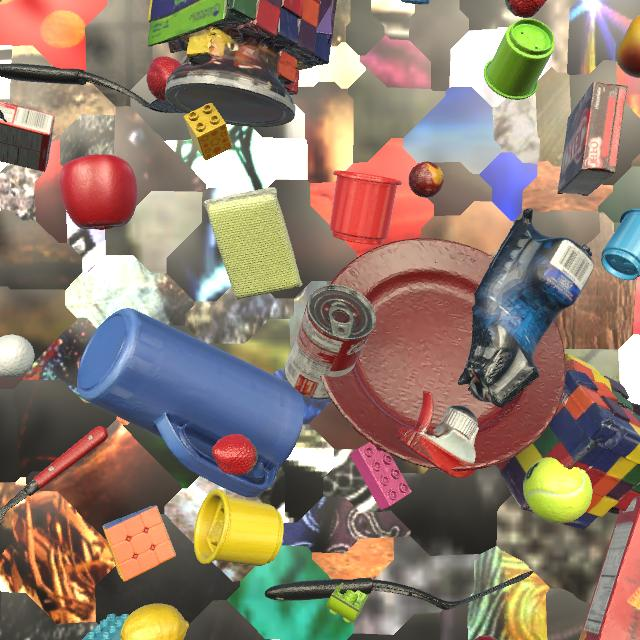ycb_003_cracker_box: (579, 496, 640, 640)
ycb_005_tomato_soup_can: (284, 284, 376, 400)
ycb_008_pudding_box: (558, 81, 628, 196)
ycb_009_gelatin_box: (0, 100, 55, 172)
ycb_012_strawberry: (212, 434, 258, 475), (146, 56, 181, 102), (505, 0, 547, 18)
ycb_013_apple: (60, 154, 138, 230)
ycb_014_lemon: (120, 603, 189, 640)
ycb_015_peach: (616, 15, 640, 78)
